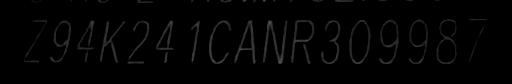letter: (346, 15, 376, 67), (376, 9, 402, 67), (20, 12, 48, 64), (432, 16, 462, 64), (259, 17, 289, 65), (97, 17, 127, 65), (464, 14, 492, 64), (124, 15, 152, 65), (316, 16, 344, 66), (288, 16, 316, 64), (205, 17, 233, 65), (230, 17, 258, 65), (406, 15, 432, 65), (151, 17, 177, 65), (48, 15, 72, 63), (74, 17, 96, 63), (184, 17, 202, 65)
